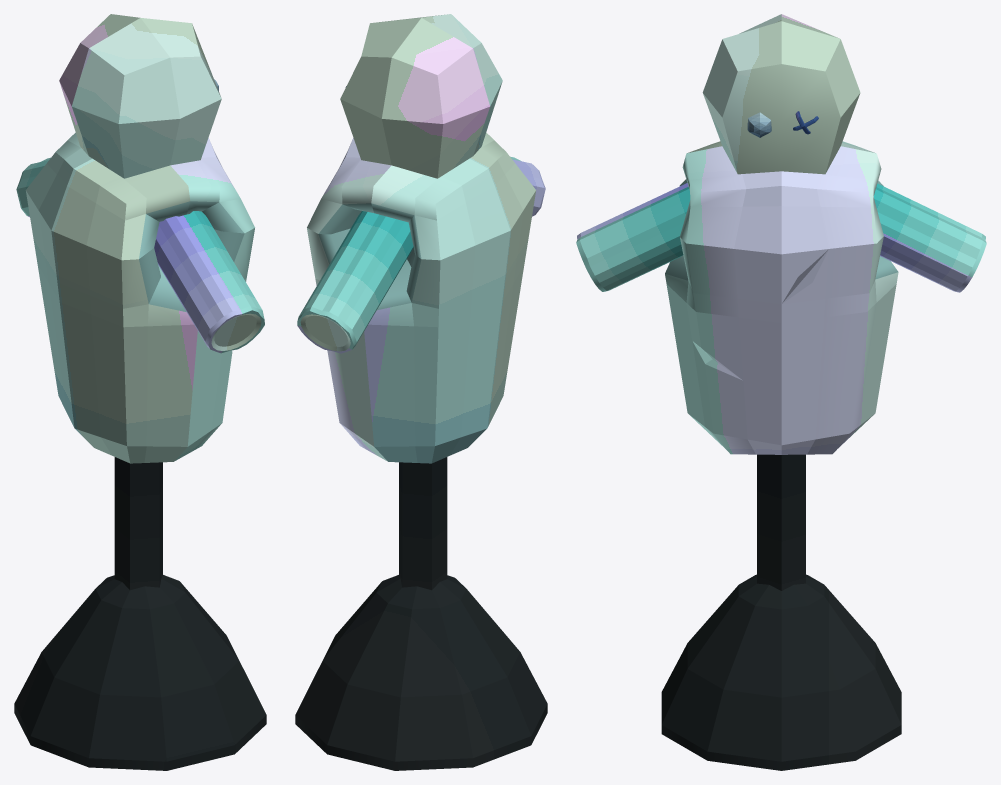
The model's file is SM_TrainingDummy.fbx.
3 renders of one model, left to right at view 1: azimuth 30°, elevation 25°; view 2: azimuth 150°, elevation 25°; view 3: azimuth 270°, elevation 25°, orthographic.
Visible parts, largest first — view 1: Body, Base, Head, Arms; view 2: Body, Base, Head, Arms; view 3: Body, Base, Head, Arms.
Part boxes in pixels (left/top/right/bottom): Body: left=25, top=132, right=254, bottom=463; Base: left=14, top=457, right=266, bottom=770; Head: left=59, top=14, right=221, bottom=178; Arms: left=16, top=157, right=264, bottom=353; Body: left=307, top=132, right=536, bottom=463; Base: left=295, top=457, right=547, bottom=770; Head: left=340, top=14, right=502, bottom=178; Arms: left=297, top=156, right=545, bottom=353; Body: left=665, top=141, right=898, bottom=454; Base: left=661, top=454, right=901, bottom=770; Head: left=702, top=14, right=860, bottom=174; Arms: left=576, top=183, right=986, bottom=292.
Size of the model in its own units: 49.58 by 151 by 80.72.
